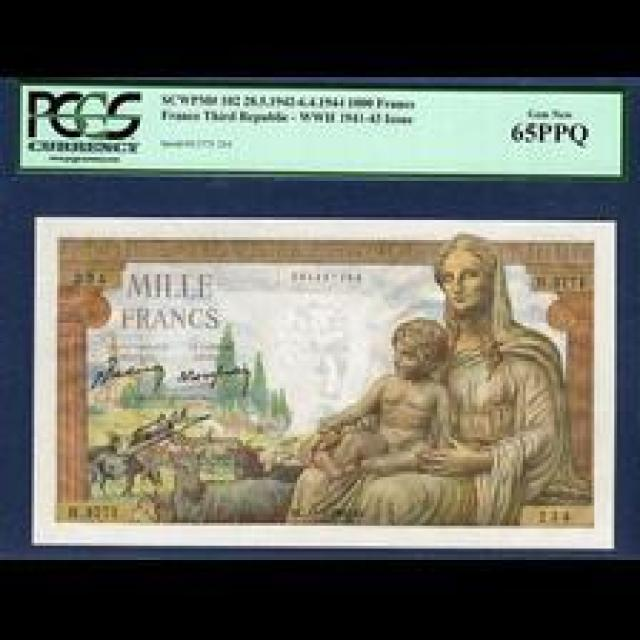banknote: (31, 211, 622, 548), (130, 267, 220, 306)
